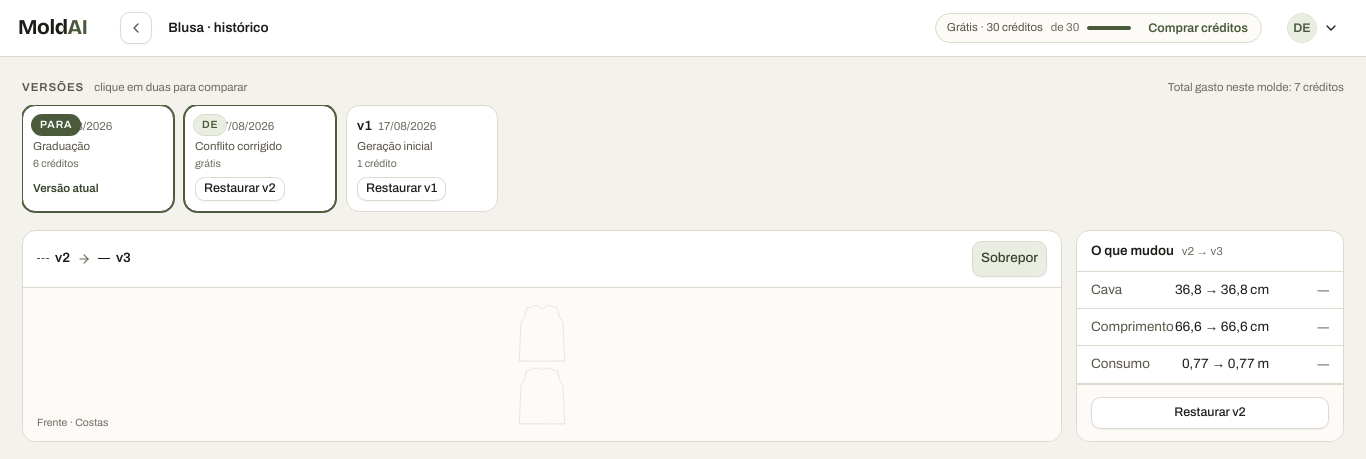
it: VersionsShell › clicking the current 'to' card swaps the compare pair instead of replacing it
Expected: the text "v2 → v3" is shown, [1182,242,1223,260]
Click the button "Para": [98, 139] box [23,106,173,172]
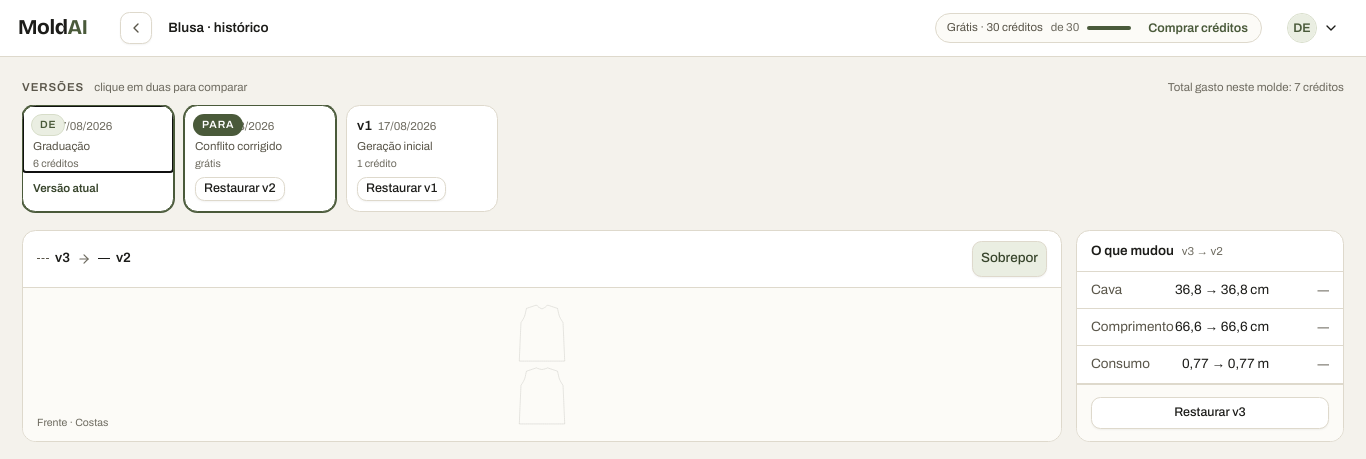
Now the text "v3 → v2" is shown, box [1182,242,1223,260]
